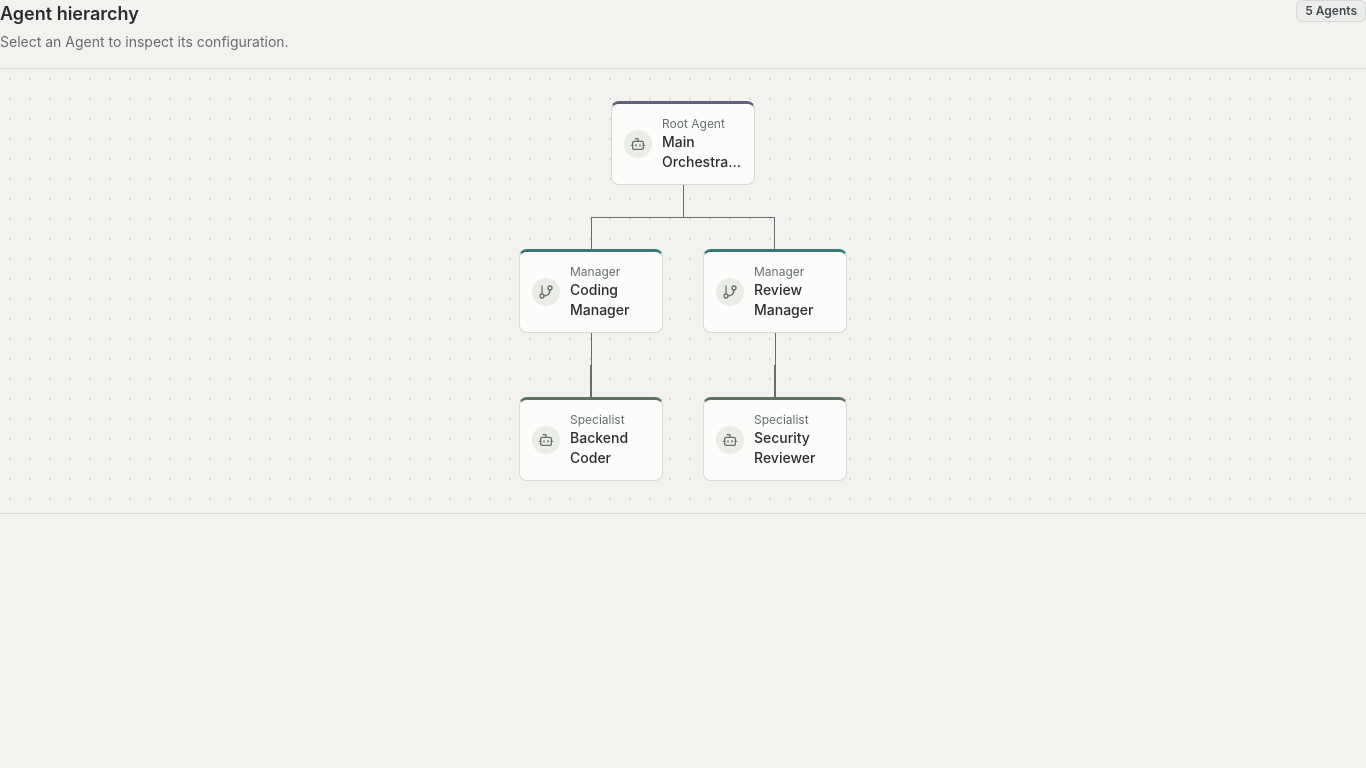
Tree hierarchy and Agent details › offers editing only when the caller grants permission
The width and height of the screenshot is (1366, 768).
Click the button "Root Agent Main Orchestrator" at (683, 143), box [611,101,755,185]
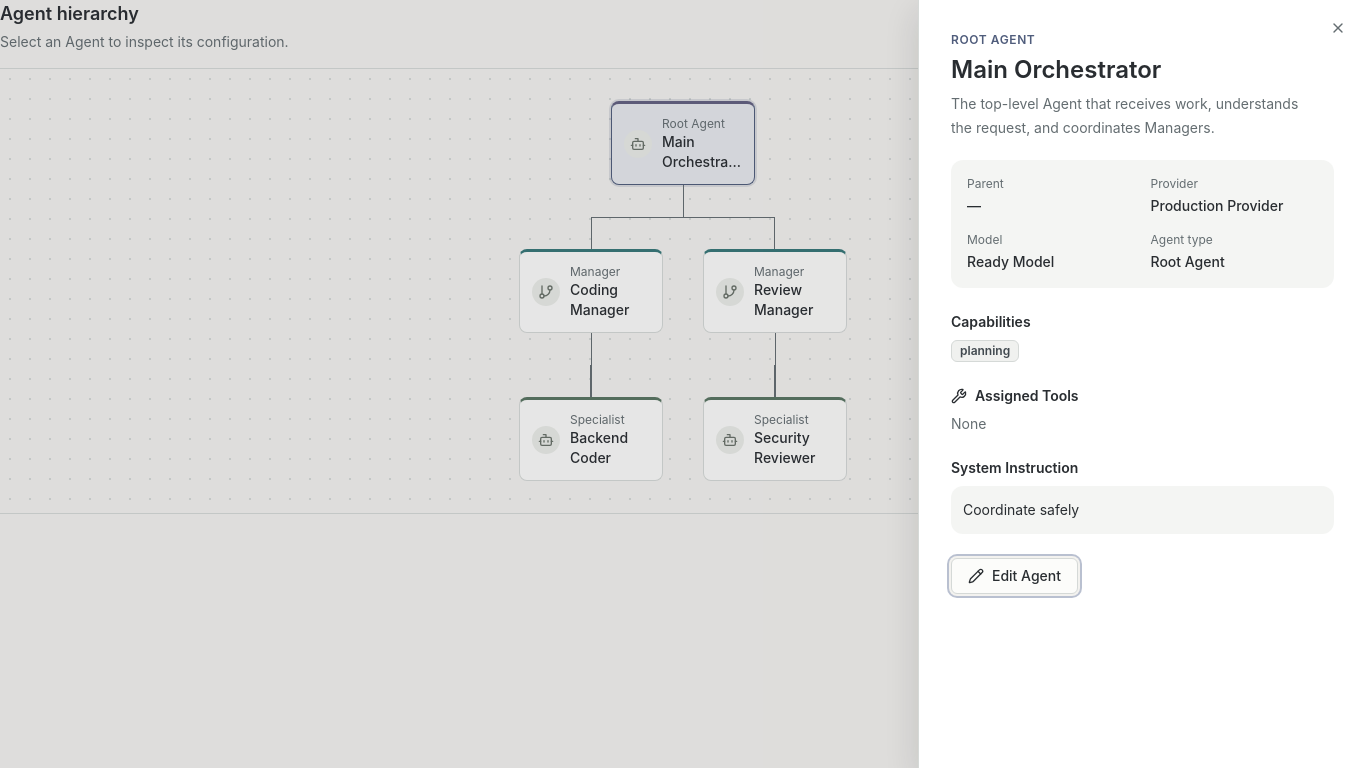
Check: the button "Edit Agent" is shown, box [951,558,1078,594]
